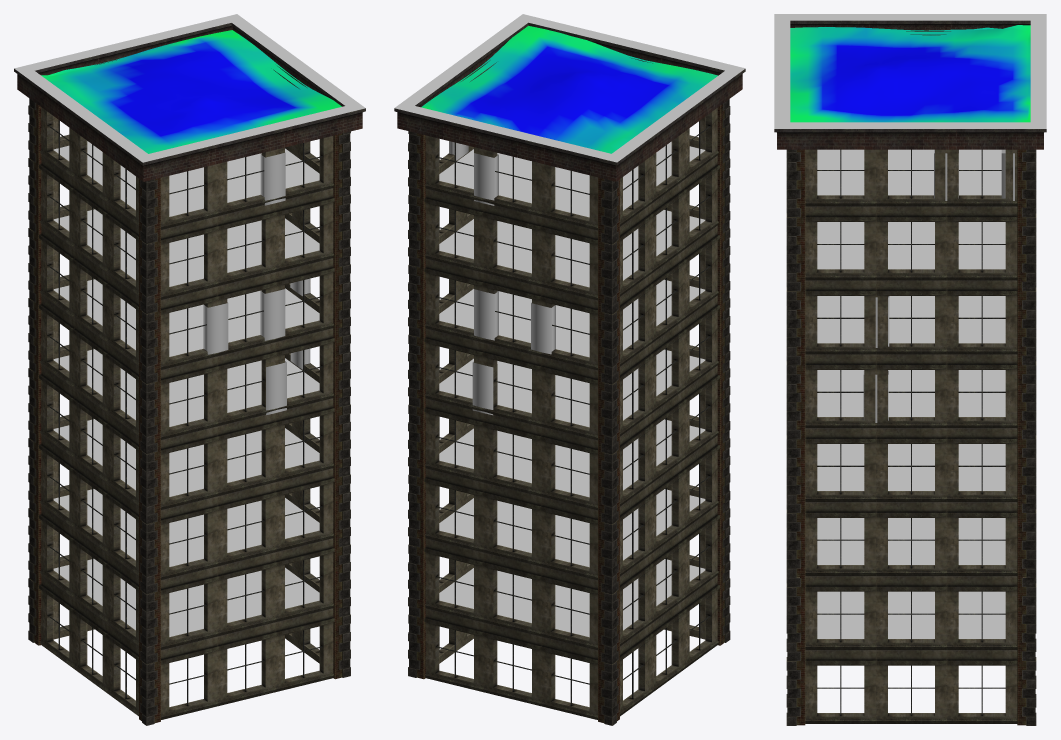
Rendered from BuildingTanSm02.fbx.
The picture shows the model from 3 angles, left to right: view 1: azimuth 30°, elevation 25°; view 2: azimuth 150°, elevation 25°; view 3: azimuth 270°, elevation 25°; orthographic projection. The views are drawn at different scales.
Visible parts, largest first — view 1: Cube.169, Cube.170, Cube.224, Cube.223, Plane.047, Plane.048, Plane.042, Plane.045, Plane.043, Plane.044, Plane.046, Cube.229 (+3 smaller); view 2: Cube.169, Cube.170, Cube.224, Cube.223, Plane.047, Plane.048, Plane.042, Plane.045, Plane.043, Plane.044, Plane.046, Cube.235 (+3 smaller); view 3: Cube.169, Cube.170, Cube.224, Cube.223, Plane.047, Plane.045, Plane.048, Plane.044, Plane.042, Plane.043, Plane.046.
Part boxes in pixels (left/top/right/bottom): Cube.169: left=39, top=59, right=334, bottom=719; Cube.170: left=28, top=98, right=350, bottom=725; Cube.224: left=41, top=30, right=341, bottom=153; Cube.223: left=14, top=14, right=365, bottom=181; Plane.047: left=53, top=559, right=319, bottom=636; Plane.048: left=53, top=489, right=319, bottom=566; Plane.042: left=53, top=419, right=319, bottom=496; Plane.045: left=53, top=209, right=319, bottom=286; Plane.043: left=53, top=349, right=319, bottom=426; Plane.044: left=53, top=279, right=319, bottom=356; Plane.046: left=53, top=141, right=319, bottom=216; Cube.229: left=260, top=289, right=285, bottom=340; Cube.169: left=424, top=58, right=719, bottom=719; Cube.170: left=408, top=99, right=730, bottom=725; Cube.224: left=421, top=25, right=717, bottom=153; Cube.223: left=394, top=14, right=745, bottom=181; Plane.047: left=439, top=559, right=705, bottom=637; Plane.048: left=439, top=489, right=705, bottom=567; Plane.042: left=439, top=419, right=705, bottom=497; Plane.045: left=439, top=210, right=705, bottom=287; Plane.043: left=439, top=349, right=705, bottom=427; Plane.044: left=439, top=279, right=705, bottom=357; Plane.046: left=439, top=141, right=705, bottom=217; Cube.235: left=531, top=302, right=555, bottom=354; Cube.169: left=796, top=31, right=1026, bottom=723; Cube.170: left=786, top=149, right=1036, bottom=725; Cube.224: left=790, top=25, right=1030, bottom=122; Cube.223: left=774, top=14, right=1046, bottom=149; Plane.047: left=817, top=591, right=1005, bottom=638; Plane.045: left=817, top=222, right=1005, bottom=269; Plane.048: left=817, top=518, right=1005, bottom=564; Plane.044: left=817, top=296, right=1005, bottom=343; Plane.042: left=817, top=444, right=1005, bottom=490; Plane.043: left=817, top=370, right=1005, bottom=416; Plane.046: left=817, top=149, right=1001, bottom=195.
Size of what is drawn, in the model's own units: 1360 by 3334 by 1360.
